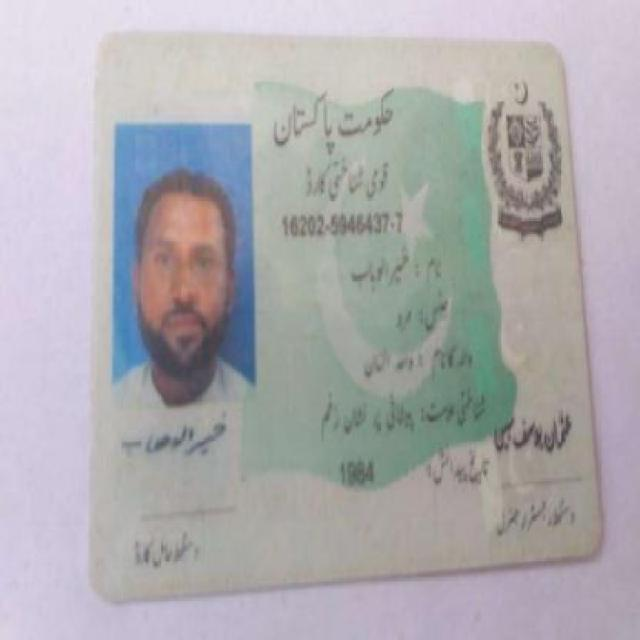Front: (83, 17, 605, 601)
